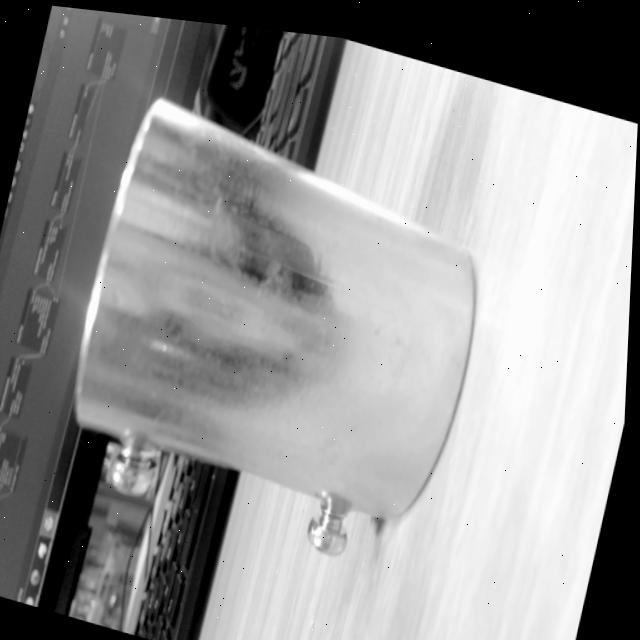Co_Nho: (35, 83, 515, 582)
